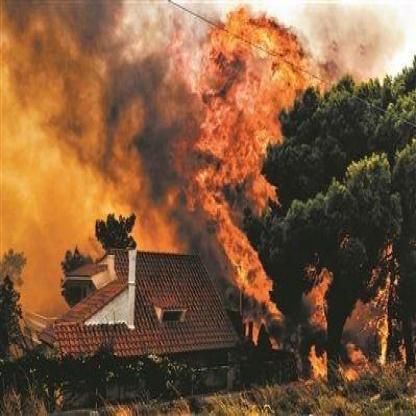fire: (186, 8, 394, 384)
smoke: (22, 15, 182, 213)
